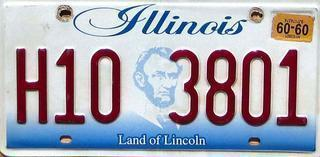placa de veiculo: (10, 4, 315, 154)
